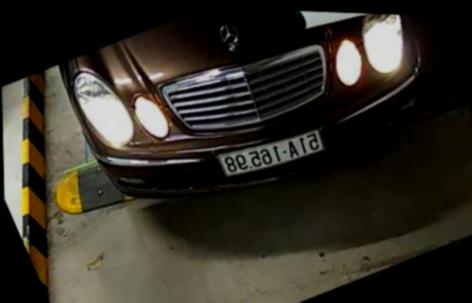License_Plate: (213, 117, 338, 184)
